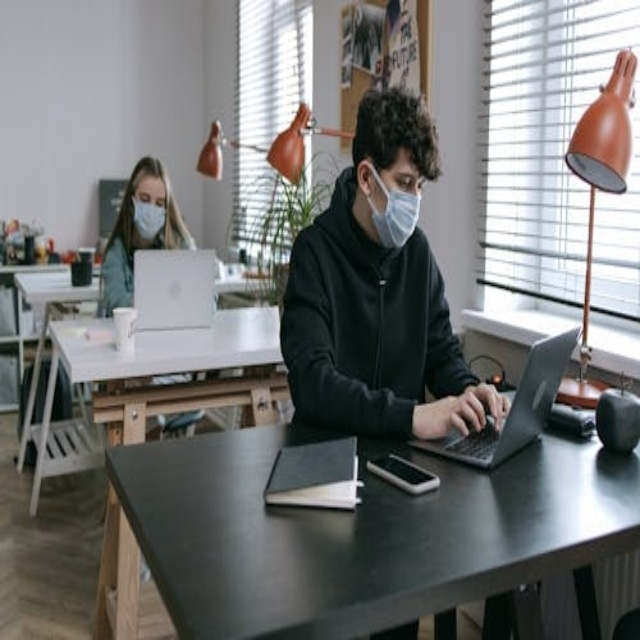Mascara: (367, 163, 421, 249), (131, 196, 167, 241)
Sin_gafas: (389, 163, 422, 190), (137, 188, 163, 208)
Sin_guantes: (415, 373, 509, 444)
